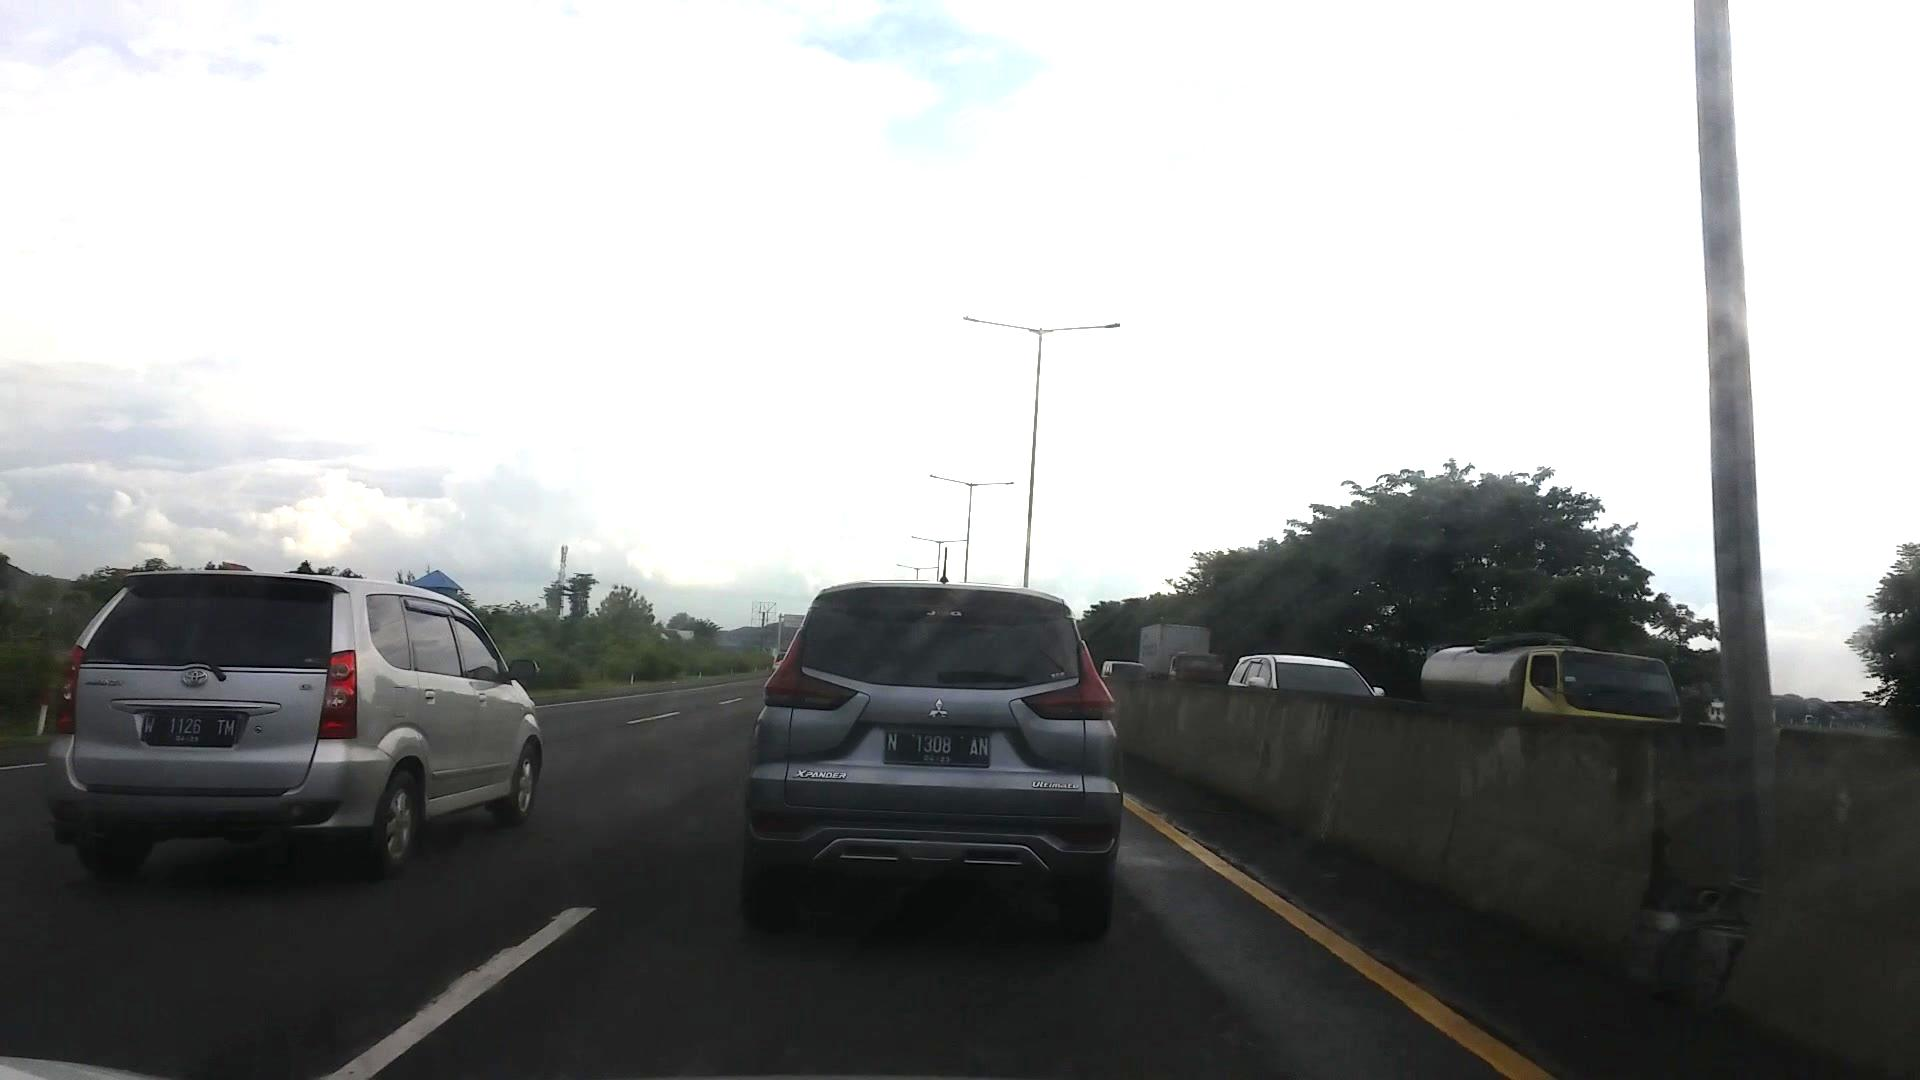plate_positive: (884, 731, 989, 767), (141, 713, 237, 748)
